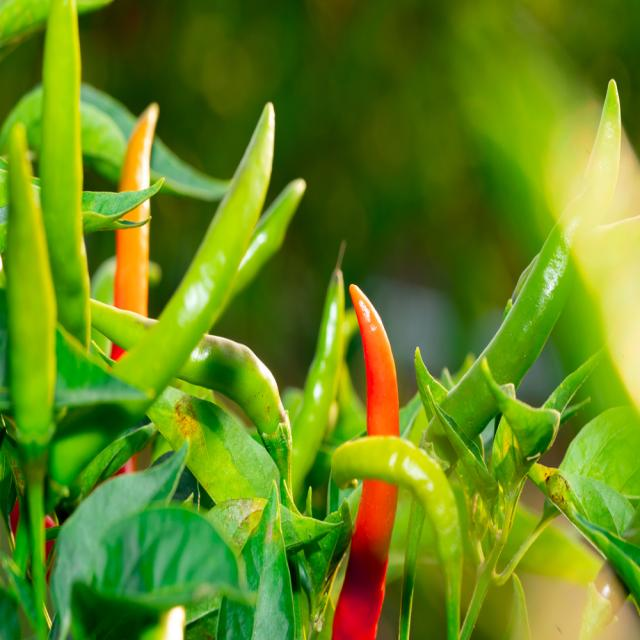Ripe: (329, 278, 400, 636)
Unripe: (441, 81, 621, 438), (114, 103, 275, 396), (85, 297, 288, 438), (331, 435, 462, 639), (40, 0, 90, 346), (4, 126, 56, 444), (291, 247, 345, 502), (225, 178, 306, 305)
